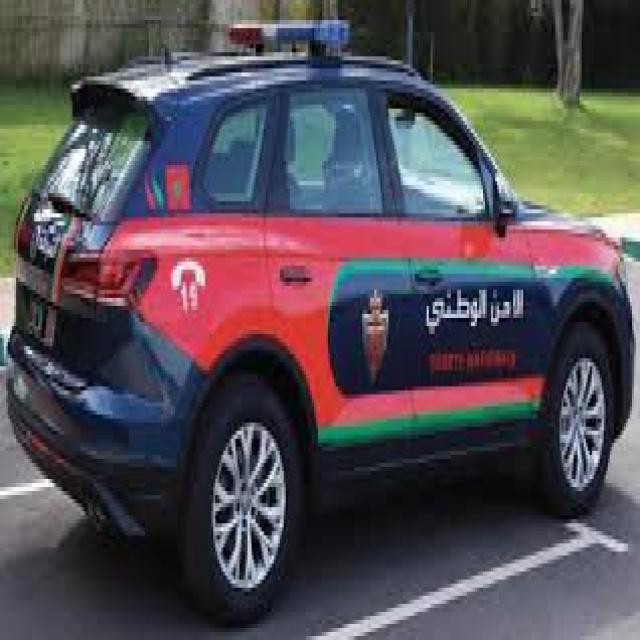Police car: (7, 17, 636, 628)
